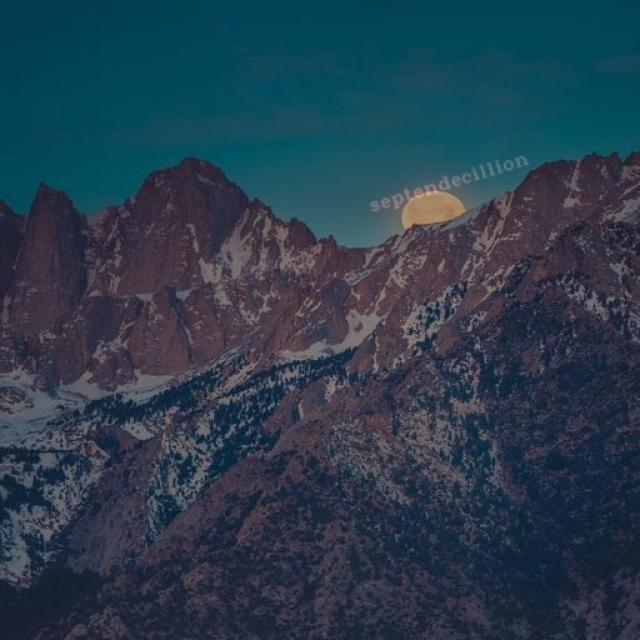watermark: (365, 148, 529, 214)
